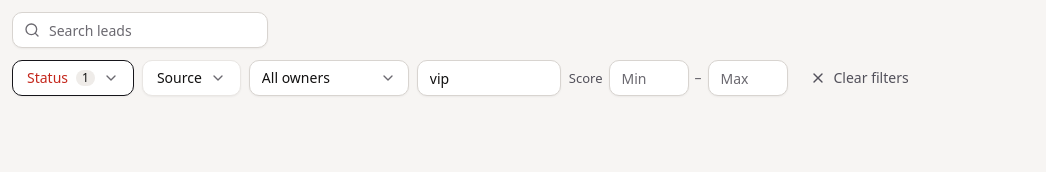
LeadFilters › shows Clear filters when a filter is active and clears them
This screenshot has width=1046, height=172.
Click the button "Clear filters" at coordinates (859, 78), box 796,60 -> 923,96
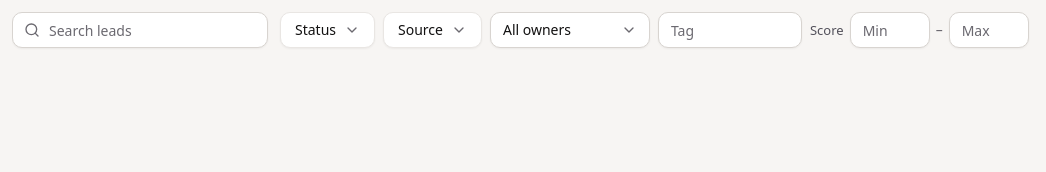
Result: the field labelled "Tag" is empty at 658,12 -> 802,48
